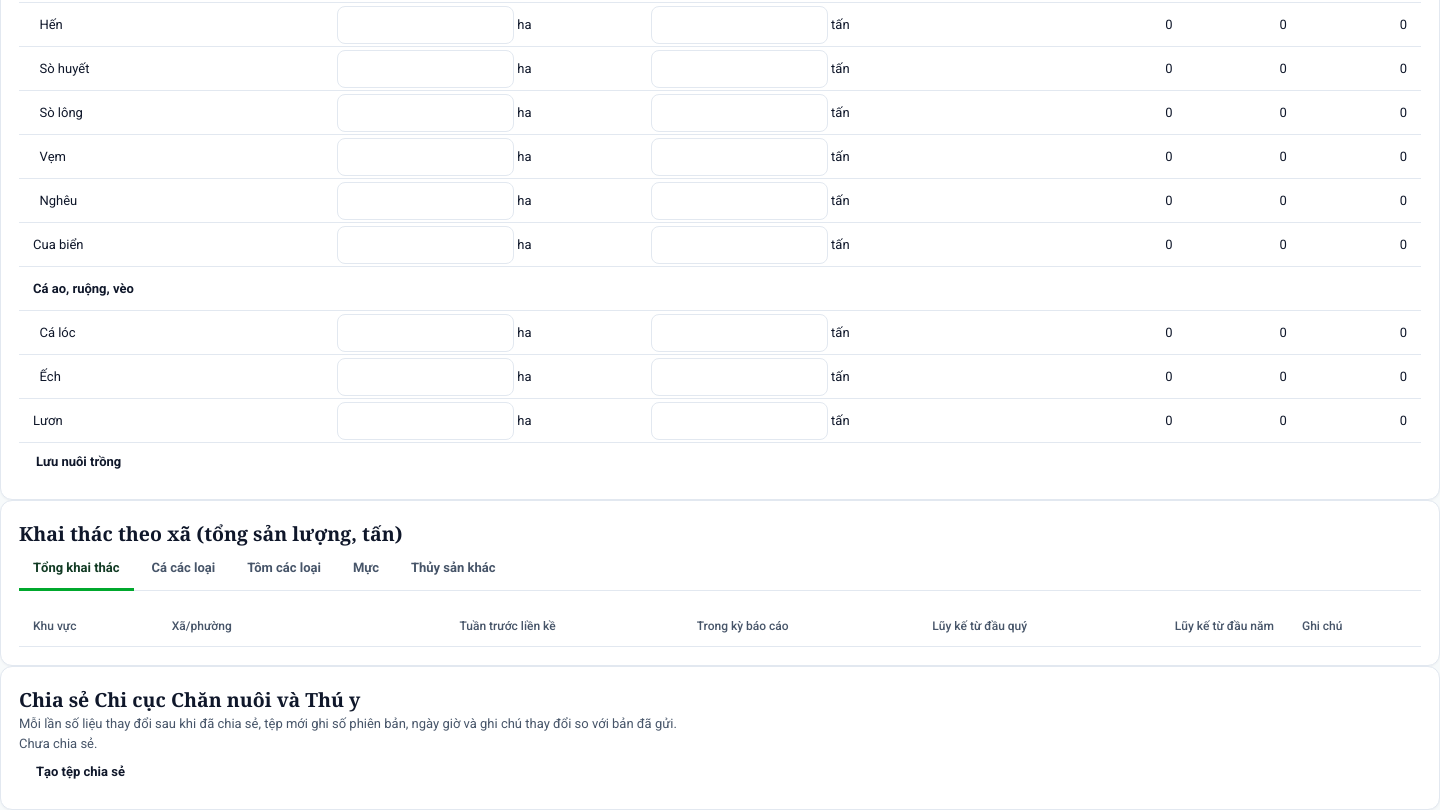
Scenario: màn Khai thác thủy sản tuần › Phụ lục 2 (tỉnh): khai thác theo xã xem được từng sheet cá / tôm / mực / khác hoặc tổng
(page scrolled)
Expected: the heading "Khai thác theo xã (tổng sản lượng, tấn)" is shown, top-left (19, 520), bottom-right (402, 547)
Click the tab "Mực". click: (366, 569)
box: top-left (339, 548), bottom-right (393, 590)
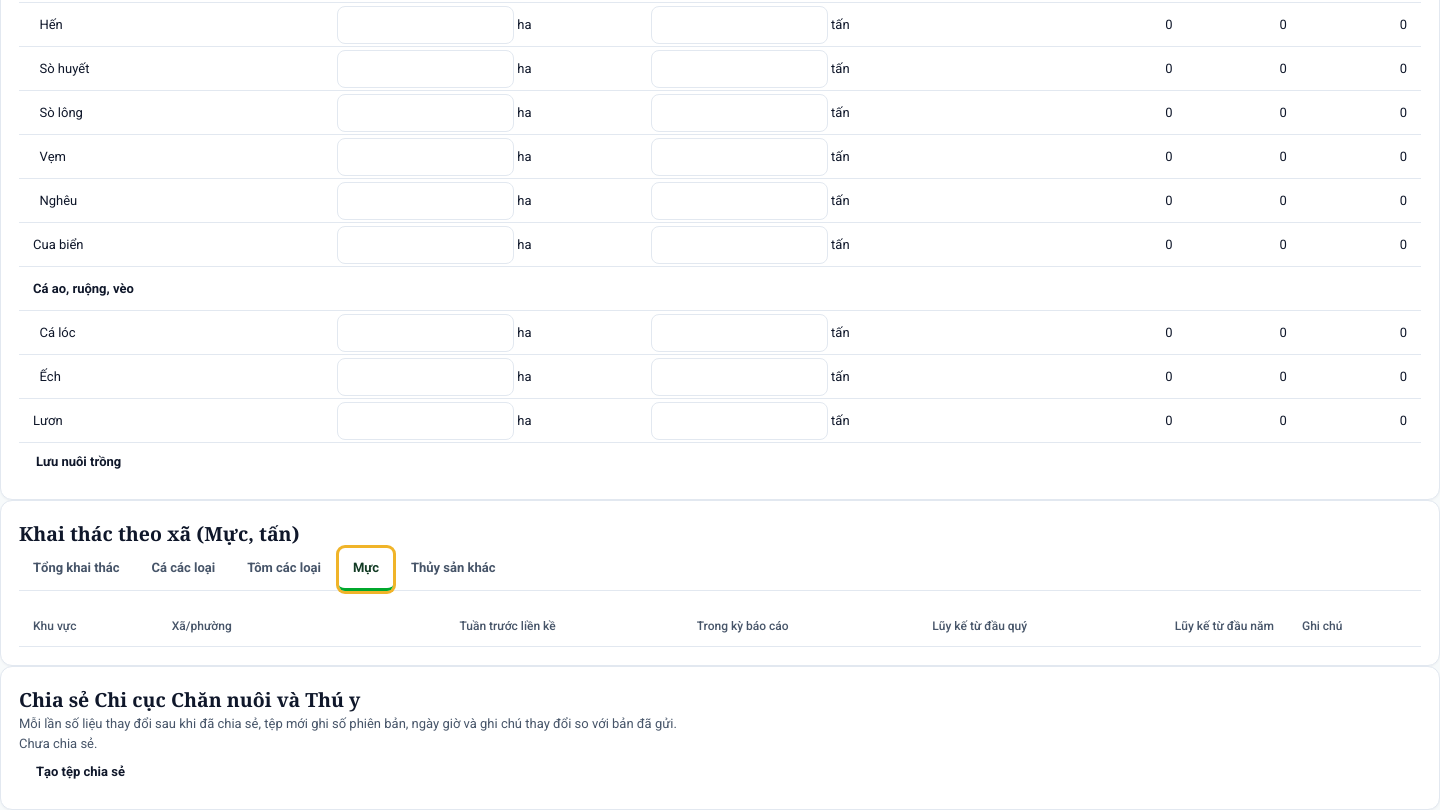
Result: the heading "Khai thác theo xã (Mực, tấn)" is shown at top-left (19, 520), bottom-right (300, 547)
